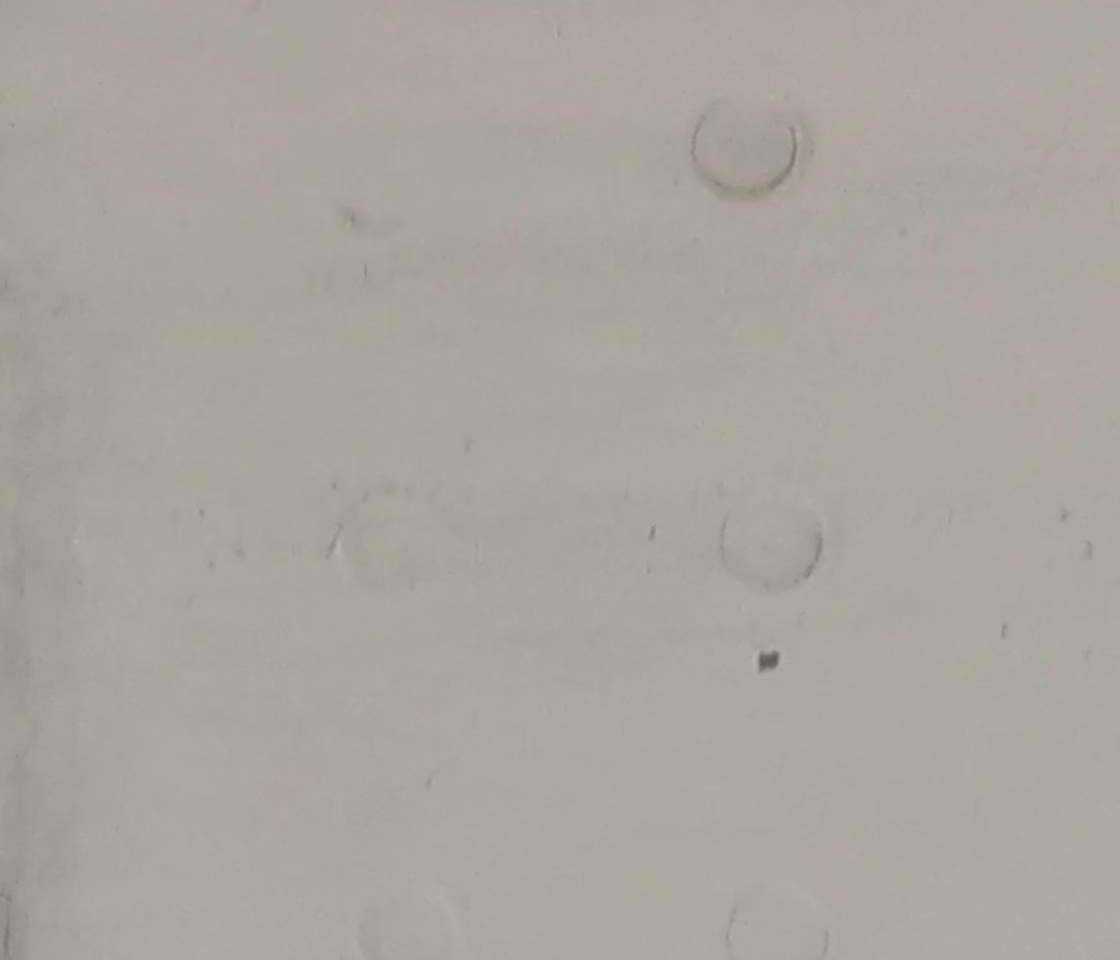scratch: (749, 646, 789, 679)
